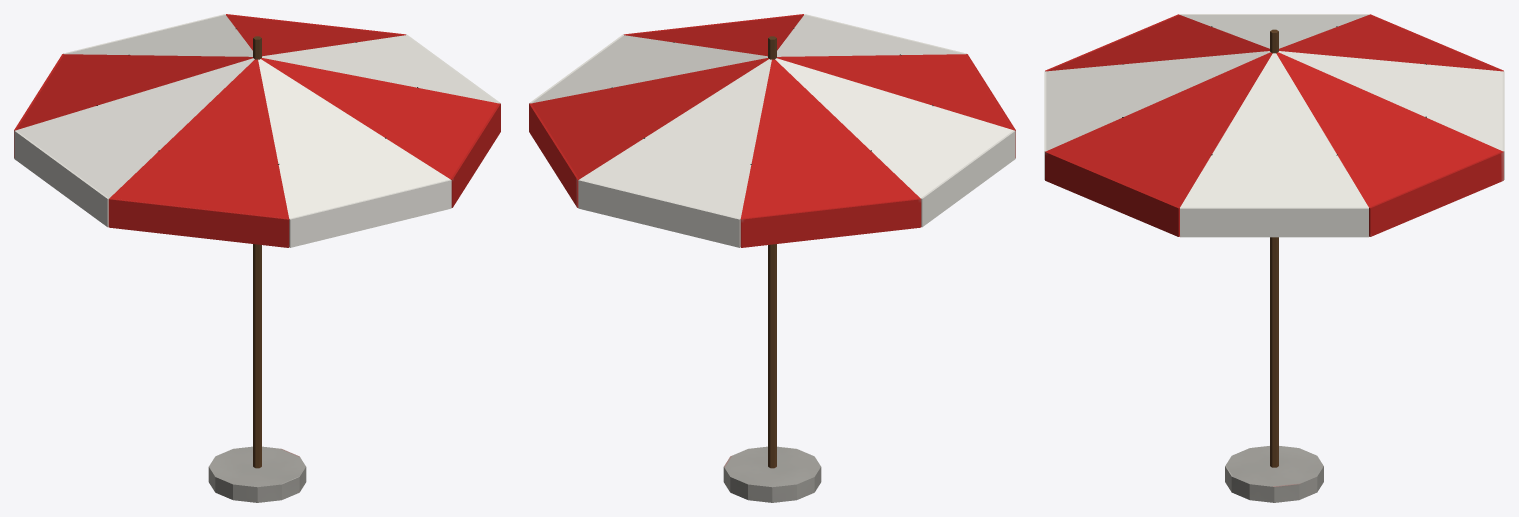
The model's file is slunecnik_d7a34560.glb.
3 renders of one model, left to right at view 1: azimuth 30°, elevation 25°; view 2: azimuth 150°, elevation 25°; view 3: azimuth 270°, elevation 25°, orthographic.
Visible parts, largest first — view 1: dum; view 2: dum; view 3: dum.
Boxes of the visible parts, x1,y1,x2,y2 form: dum: [14, 14, 500, 502]; dum: [529, 14, 1015, 502]; dum: [1044, 14, 1504, 502].
Bounding box in the file's own units: 2.6 × 2.81 × 2.6.
1 material, 1 textured.
